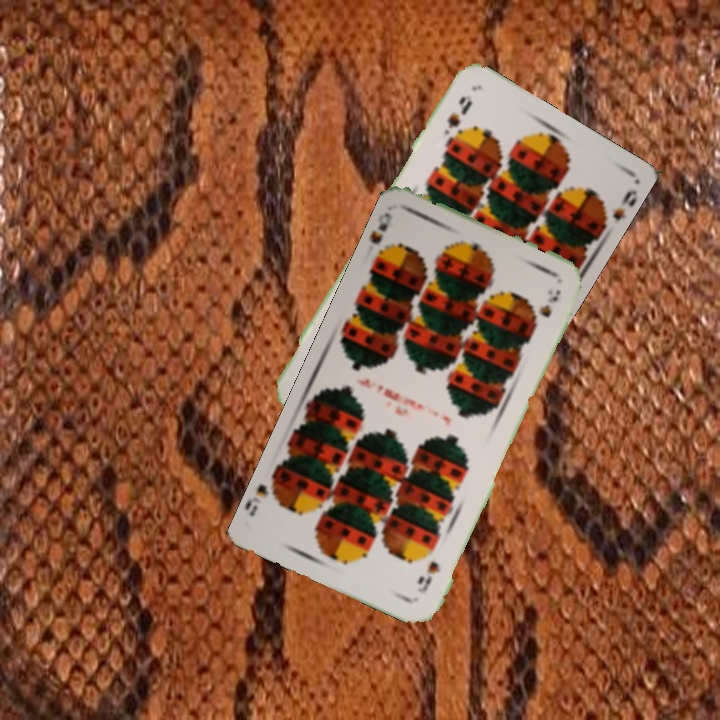S9: (371, 208, 395, 262), (443, 91, 475, 131), (413, 557, 443, 596)
